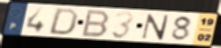3: (110, 10, 139, 40)
4: (25, 7, 47, 35)
8: (169, 15, 193, 42)
B: (80, 9, 112, 39)
D: (46, 7, 80, 36)
N: (140, 12, 171, 41)
